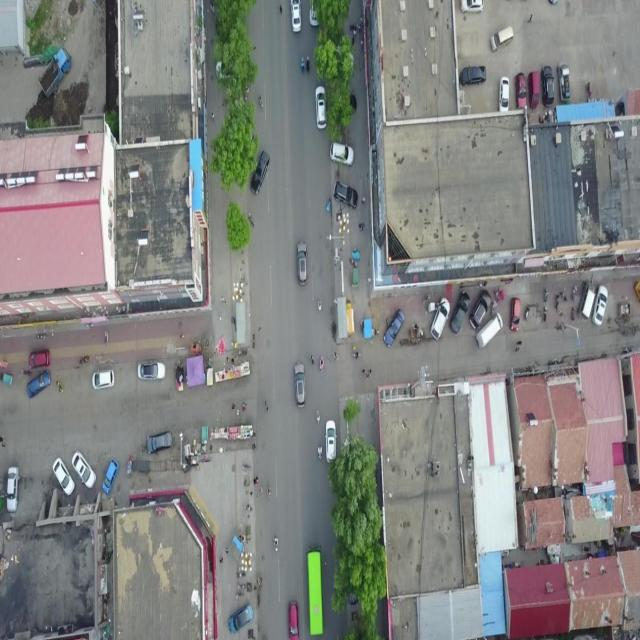p3rson: (0, 434, 6, 443), (211, 112, 215, 121), (0, 442, 6, 448), (225, 301, 228, 309), (220, 297, 224, 302), (266, 636, 270, 640), (263, 637, 266, 640)
